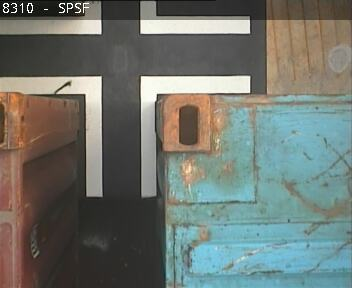groundmarker_1: (4, 75, 251, 197)
